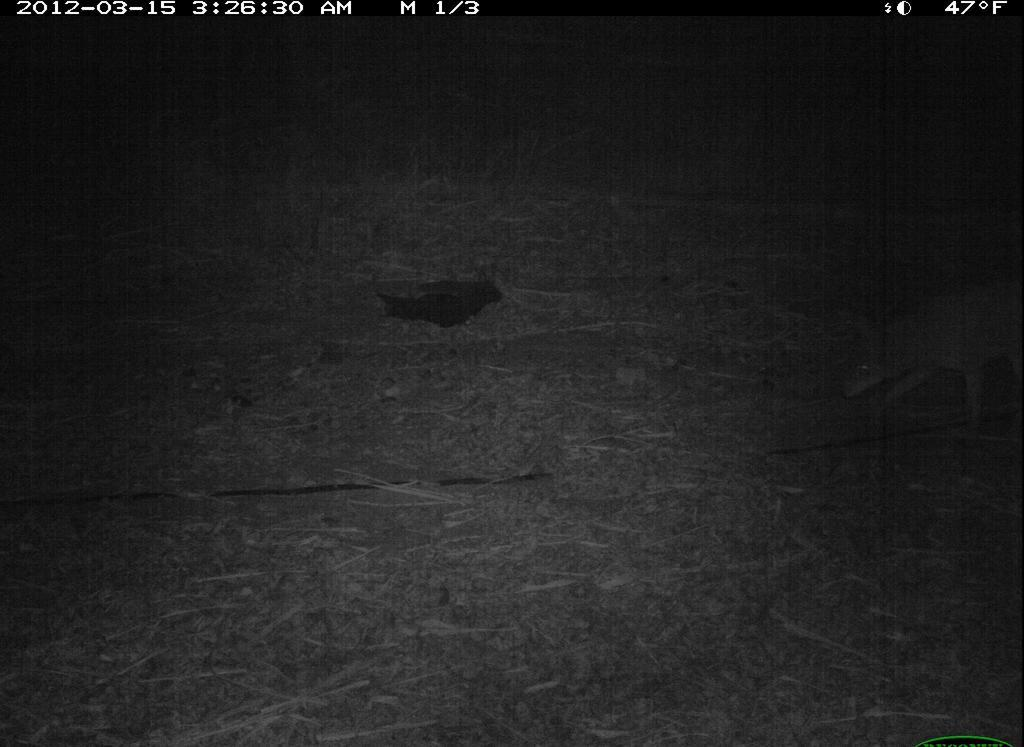coyote: (834, 282, 1023, 438)
